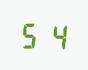five: (19, 19, 42, 49)
four: (43, 19, 66, 50)
